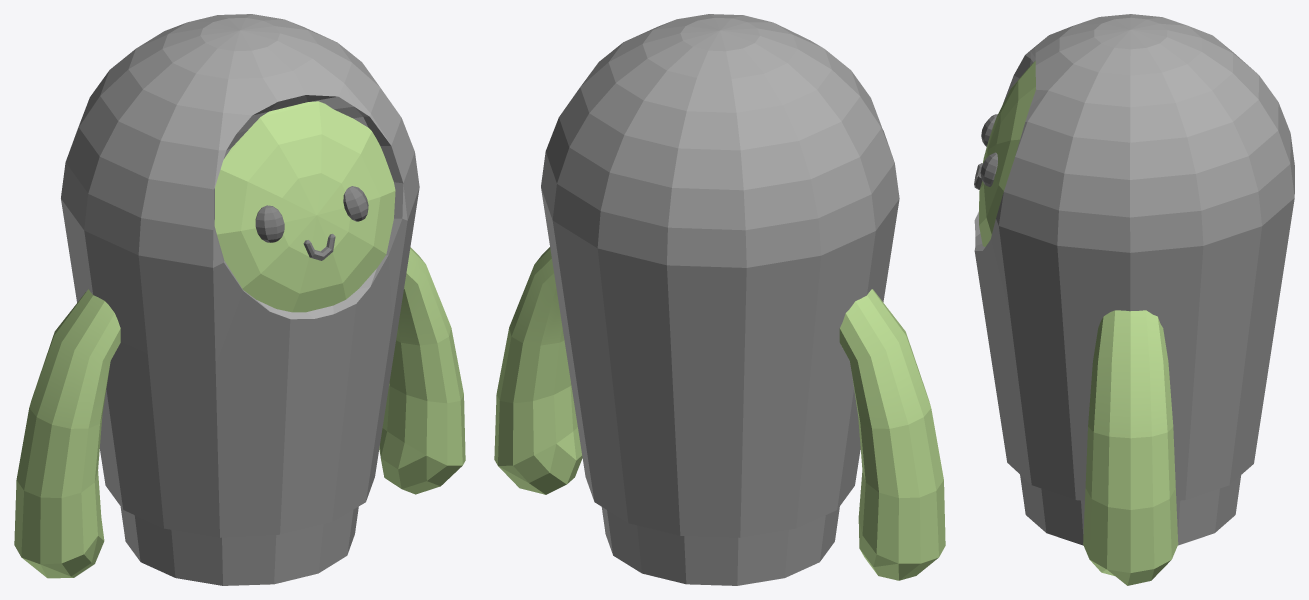
File: SM_NormalRobot.fbx
The picture shows the model from 3 angles, left to right: view 1: azimuth 30°, elevation 25°; view 2: azimuth 150°, elevation 25°; view 3: azimuth 270°, elevation 25°; orthographic projection. The views are drawn at different scales.
Parts seen in each view (by area): view 1: normal_robot; view 2: normal_robot; view 3: normal_robot.
Part boxes in pixels (left/top/right/bottom): normal_robot: left=14, top=14, right=465, bottom=585; normal_robot: left=494, top=14, right=945, bottom=585; normal_robot: left=974, top=14, right=1294, bottom=585.
Bounding box in the file's own units: 157 × 174 × 107.
